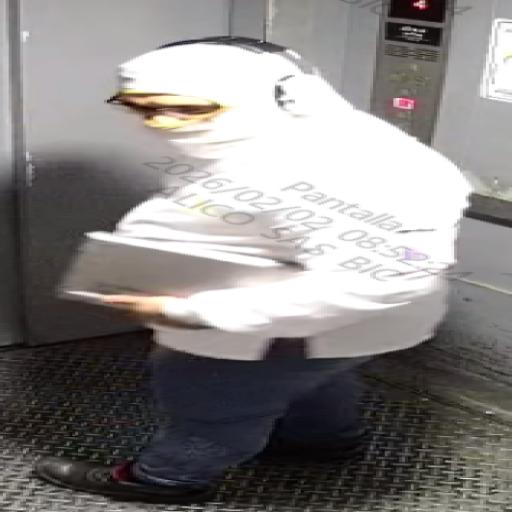person: (22, 24, 512, 511)
